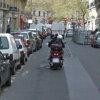Motorcycle: (42, 32, 74, 74)
